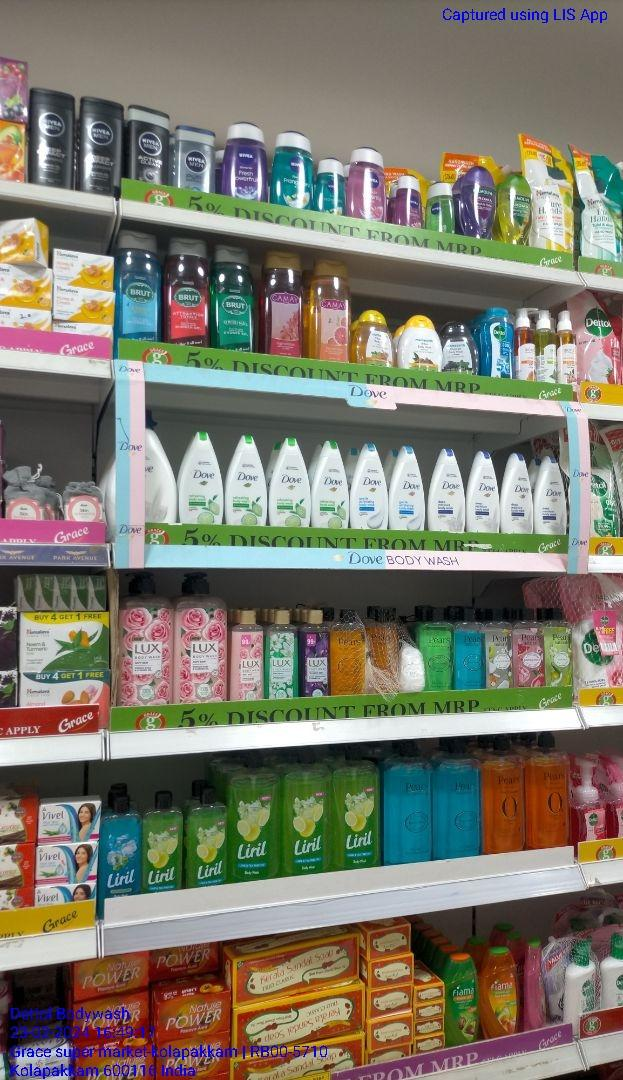Dettol_Bodywash_Cool: (482, 305, 515, 378)
Dove_Deep_Moisture_Body_Wash_250ML: (428, 447, 465, 532), (467, 451, 500, 534), (534, 454, 567, 535), (500, 450, 532, 533)
Dove_Gentle_Exfoliating_Body_Wash_250ML: (348, 443, 388, 529), (389, 447, 427, 534)
Dove_Refreshing_Body_Wash_250ML: (180, 430, 223, 526), (268, 436, 311, 529), (224, 431, 266, 526), (312, 435, 347, 529)
Fiama_Shower_Gel_Lemongrass_and_Jojoba_250ML: (448, 950, 480, 1044)
Fiama_Shower_Gel_Peach_and_Avocado_250ML: (481, 942, 519, 1036)
Liril_Cooling_Mint_Body_Wash_250ML: (100, 795, 143, 896)
Liril_Lime_and_Tea_Tree_Oil_Body_Wash_250ML: (144, 791, 183, 892), (189, 790, 227, 884)
Lux_Black_Orchid_Scent_and_Juniper_Oil_Body_Wash_245ML: (302, 610, 330, 695)
Lux_Body_Wash_Skin_Detox_Freesia_Scent_and_Alove_Vera_245ML: (264, 609, 298, 698)
Nivea_Shower_Gel_Frangipani_and_Oil_250ML: (272, 128, 316, 211), (317, 157, 346, 215)
Nivea_Shower_Gel_Fresh_Powerfruit_250ML: (225, 122, 267, 203)
Nivea_Shower_Gel_Waterlily_and_Oil_250ML: (347, 144, 390, 222)
Palmolive_Aroma_Morning_Tonic_Shower_Gel_250ML: (501, 173, 530, 245)
Palmolive_Aroma_Relax_250ML: (464, 162, 495, 238)
Pears_Naturale_Aloe_Vera_Body_Wash_250ML: (545, 605, 575, 685)
Pears_Pure_Glycerin_and_Lemon_Flower_Extracts_Body_Wash_250ML: (422, 606, 454, 689)
Pears_Pure_Glycerin_and_Mint_Extracts_Body_Wash_250ML: (455, 606, 486, 689)
